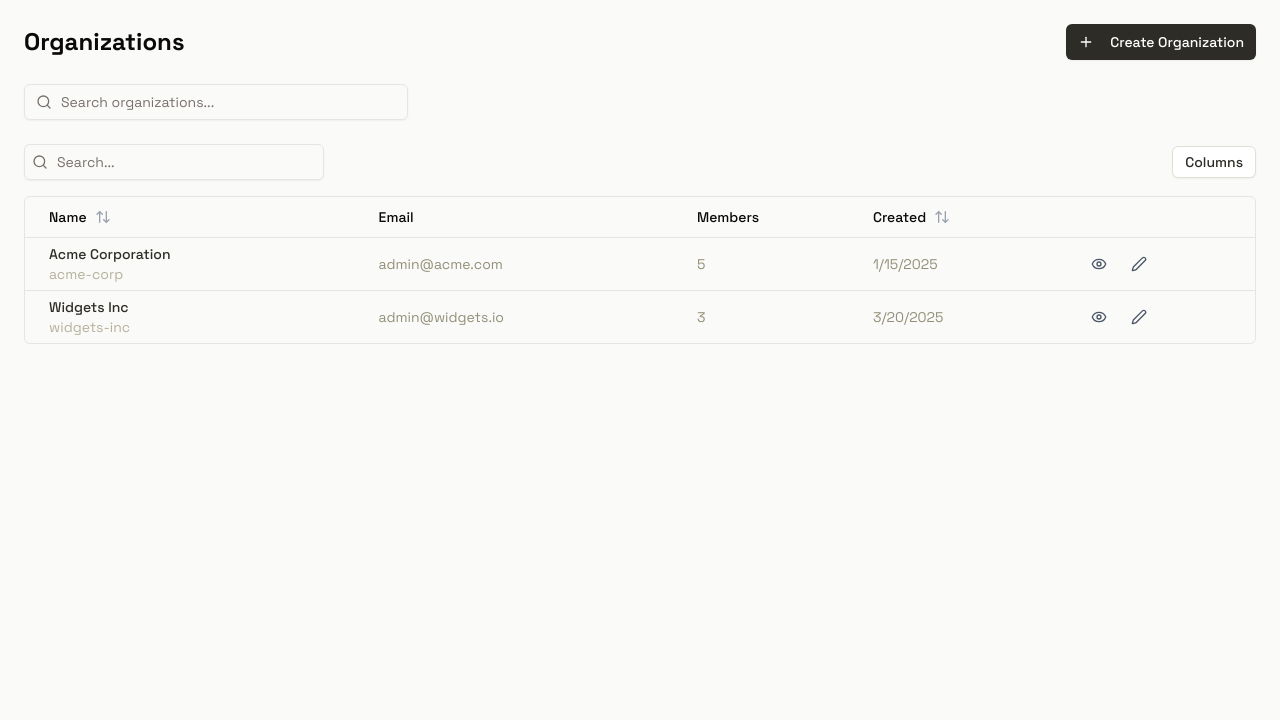
Organizations › opens create organization modal
The width and height of the screenshot is (1280, 720).
Check: the heading "Organizations" is shown, box [24, 26, 184, 58]
Click the button "Create Organization" at (1161, 42), box [1066, 24, 1256, 60]
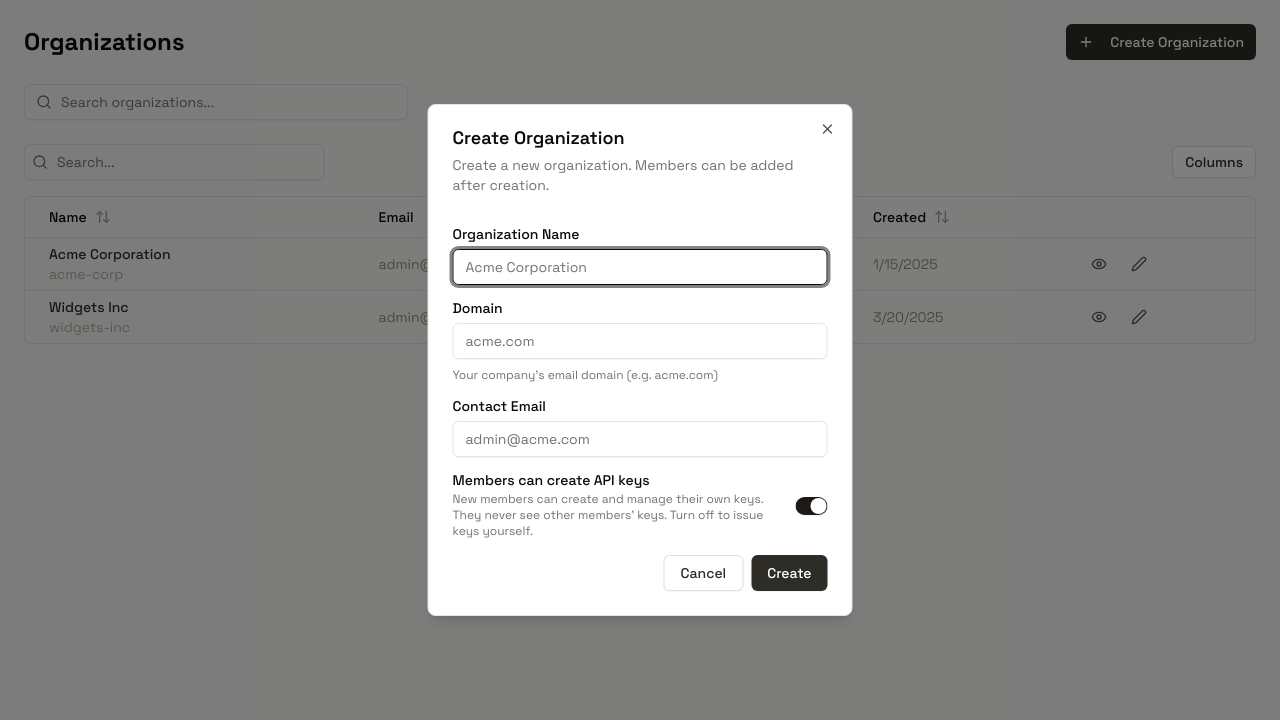
Check: the heading "Create Organization" is shown, box [452, 126, 625, 149]
Check: the field labelled "Domain" is shown, box [452, 323, 828, 359]
Check: the field labelled "Contact Email" is shown, box [452, 421, 828, 457]
